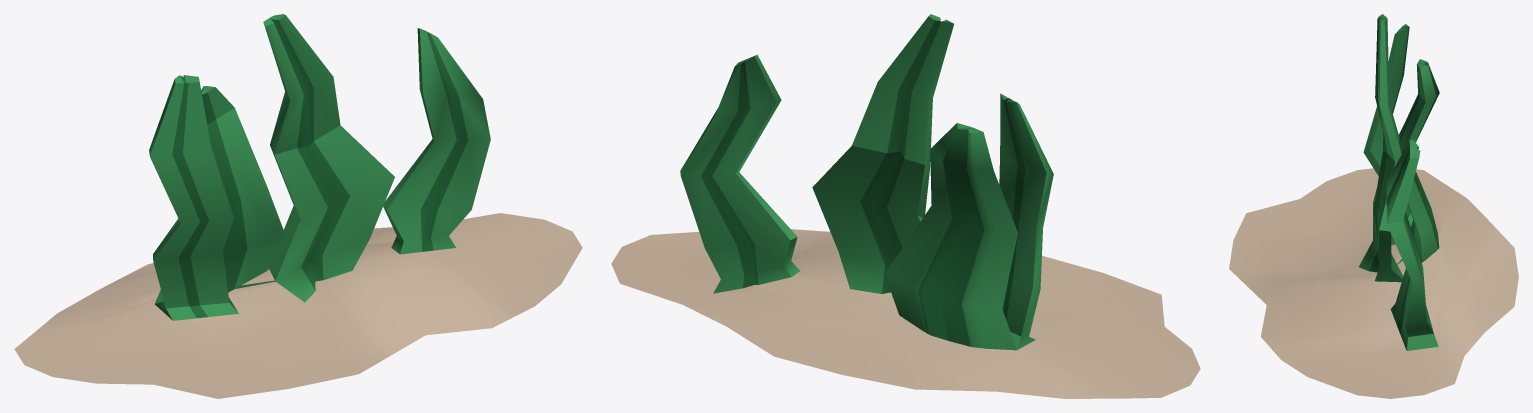
The model's file is seaweedfbx.fbx.
3 views of the same model, side by side, from view 1: azimuth 30°, elevation 25°; view 2: azimuth 150°, elevation 25°; view 3: azimuth 270°, elevation 25° (orthographic). The views are drawn at different scales.
Visible parts, largest first — view 1: pDisc1; view 2: pDisc1; view 3: pDisc1.
Boxes of the visible parts, box(x1,y1,x2,y2) form: pDisc1: box(14, 14, 582, 398); pDisc1: box(611, 14, 1200, 398); pDisc1: box(1229, 14, 1518, 398).
Size of the model in its own units: 7.87 by 4.06 by 4.14.
